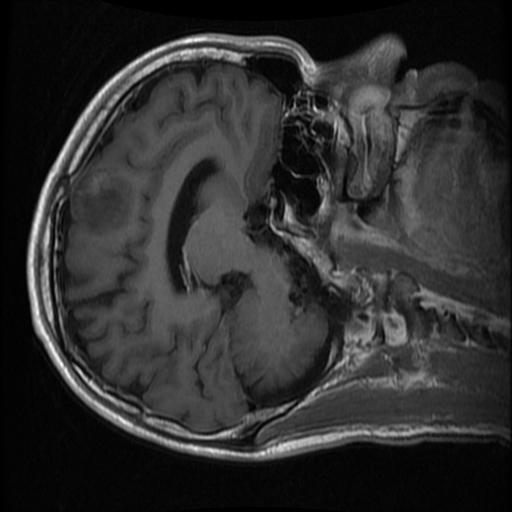glioma: (71, 172, 131, 237)
